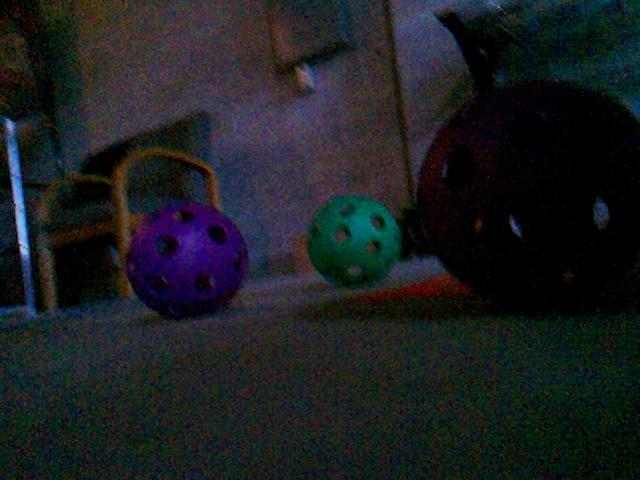Green: (306, 194, 402, 287)
Purple: (413, 85, 639, 310), (124, 201, 249, 318)
